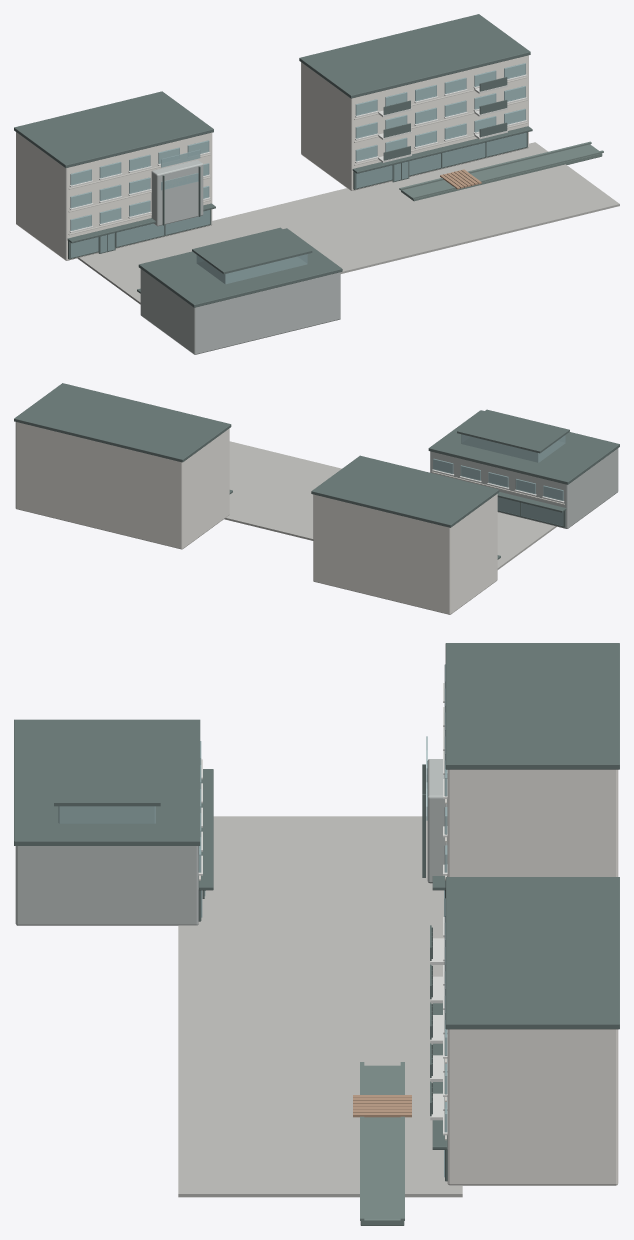
File: xingfuli-center.glb
The picture shows the model from 3 angles, top to bottom: view 1: azimuth 30°, elevation 25°; view 2: azimuth 150°, elevation 25°; view 3: azimuth 270°, elevation 25°; orthographic projection. The views are drawn at different scales.
Visible parts, largest first — view 1: xingfuli-center; view 2: xingfuli-center; view 3: xingfuli-center.
Boxes of the visible parts, left/top/right/bottom form: xingfuli-center: left=14, top=14, right=619, bottom=354; xingfuli-center: left=14, top=383, right=619, bottom=614; xingfuli-center: left=14, top=643, right=619, bottom=1225.
Size of the model in its own units: 48.97 by 8.97 by 29.83.
